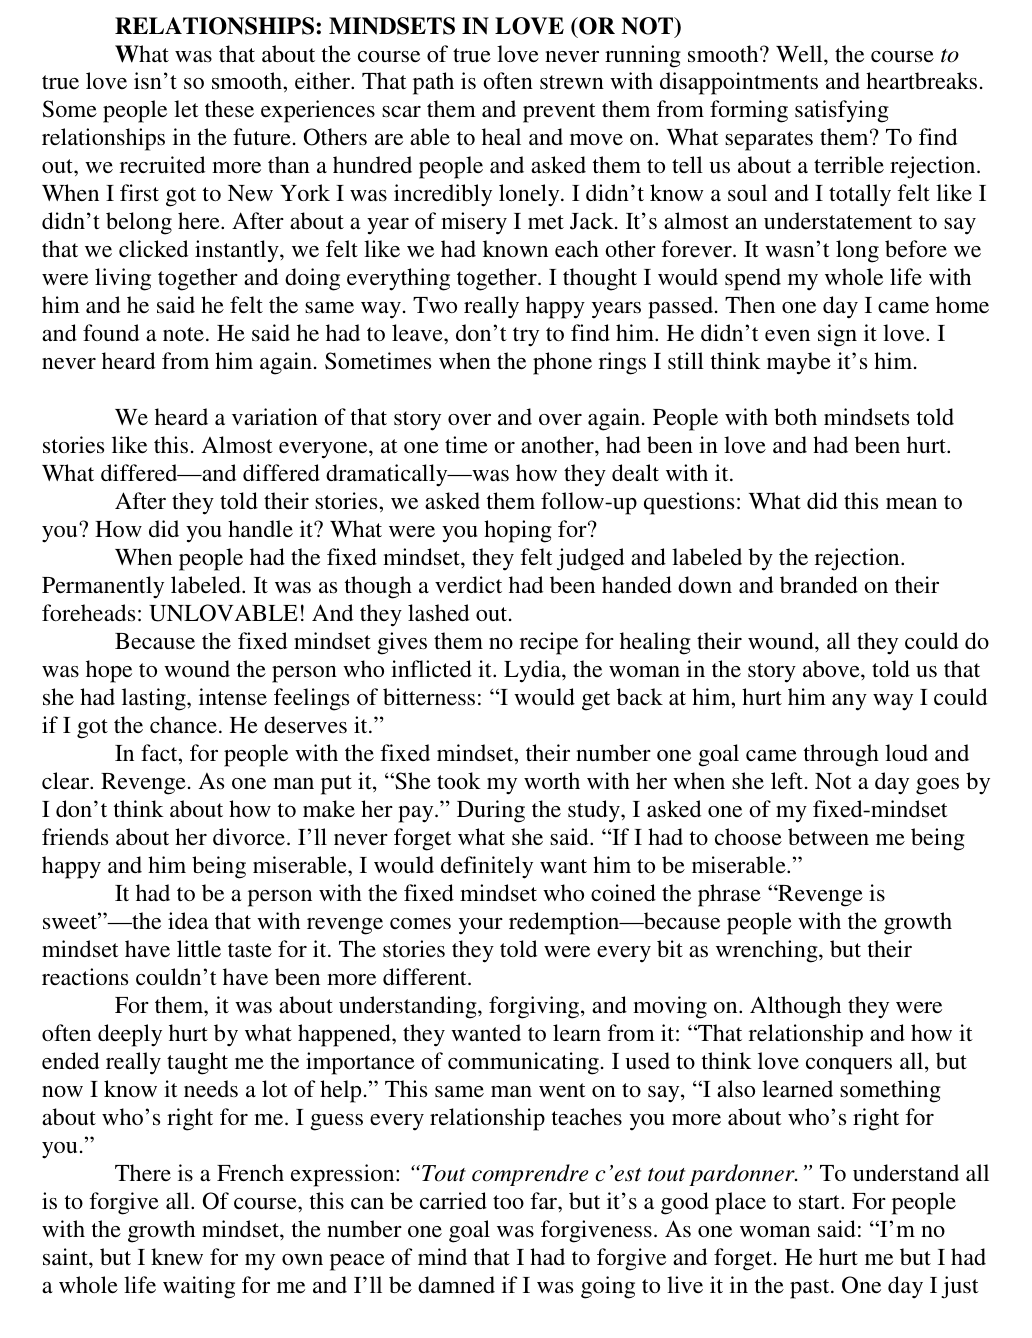latin: (35, 41, 991, 376), (37, 986, 984, 1162), (29, 1161, 995, 1304), (38, 744, 998, 880), (37, 493, 969, 628), (34, 627, 992, 744), (34, 880, 955, 986), (38, 409, 958, 493), (113, 14, 684, 42)
